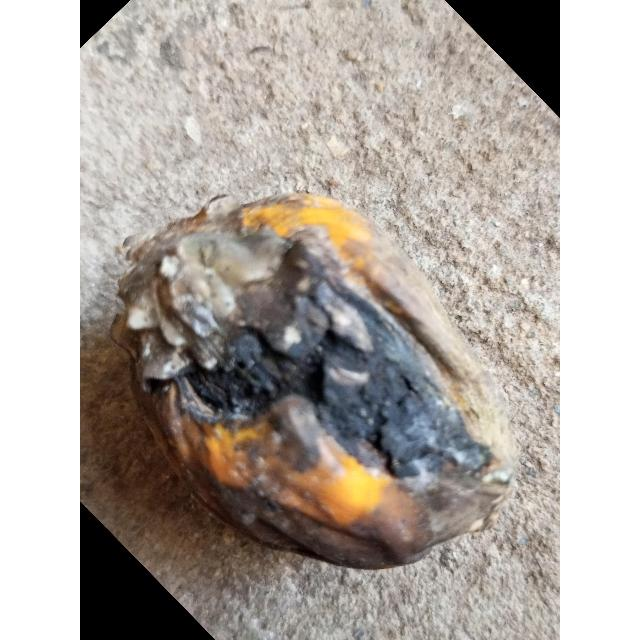damaged: (110, 193, 519, 573)
